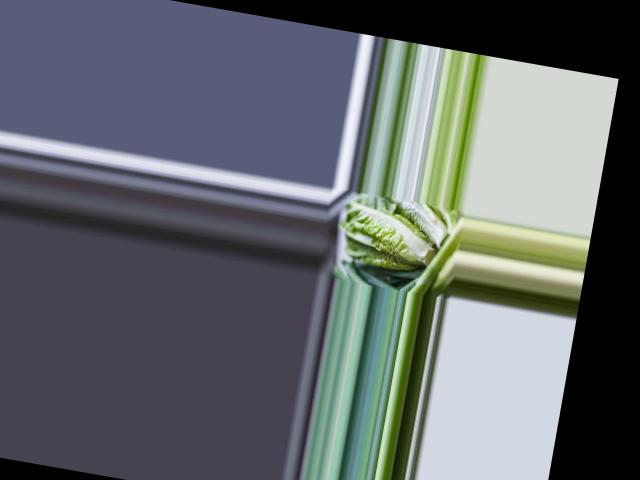lettuce: (334, 199, 442, 277)
